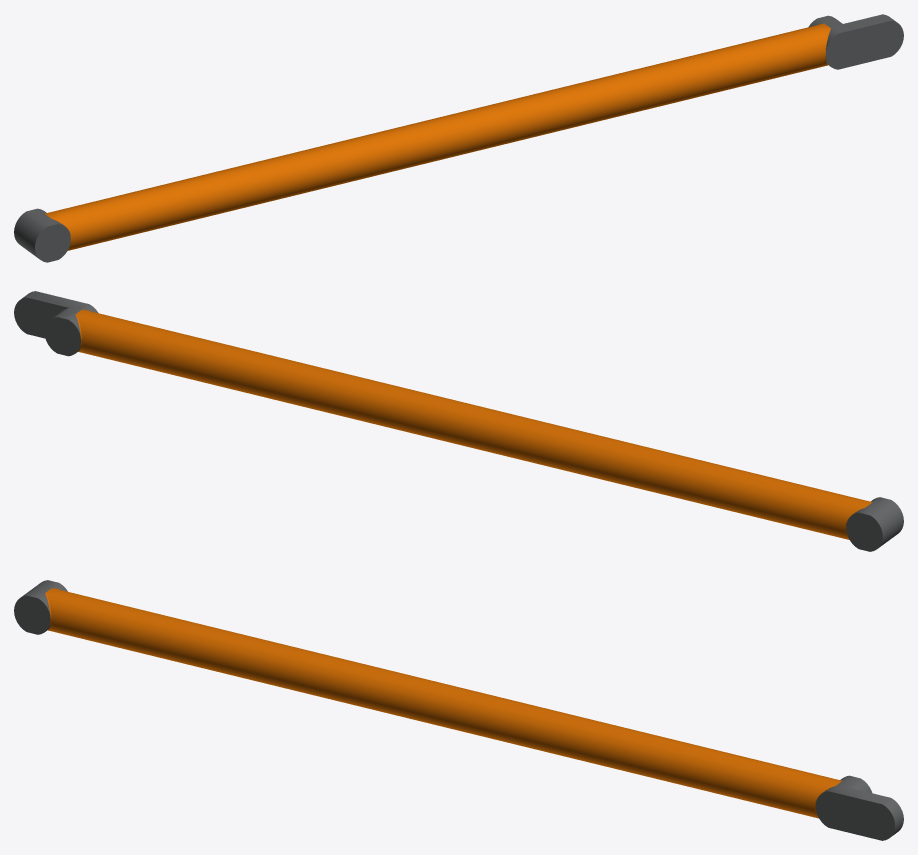
3 renders of one model, top to bottom at view 1: azimuth 30°, elevation 25°; view 2: azimuth 150°, elevation 25°; view 3: azimuth 330°, elevation 25°, orthographic.
Visible parts, largest first — view 1: c4_LOD0, c4_col; view 2: c4_LOD0, c4_col; view 3: c4_LOD0, c4_col.
Part boxes in pixels (x1,y1,x2,y2): c4_LOD0: (14, 14, 903, 262); c4_col: (27, 14, 903, 261); c4_LOD0: (14, 291, 903, 551); c4_col: (14, 292, 890, 551); c4_LOD0: (14, 580, 903, 840); c4_col: (14, 580, 894, 839).
Size of what is drawn, in the model's own units: 288 by 11.93 by 12.
